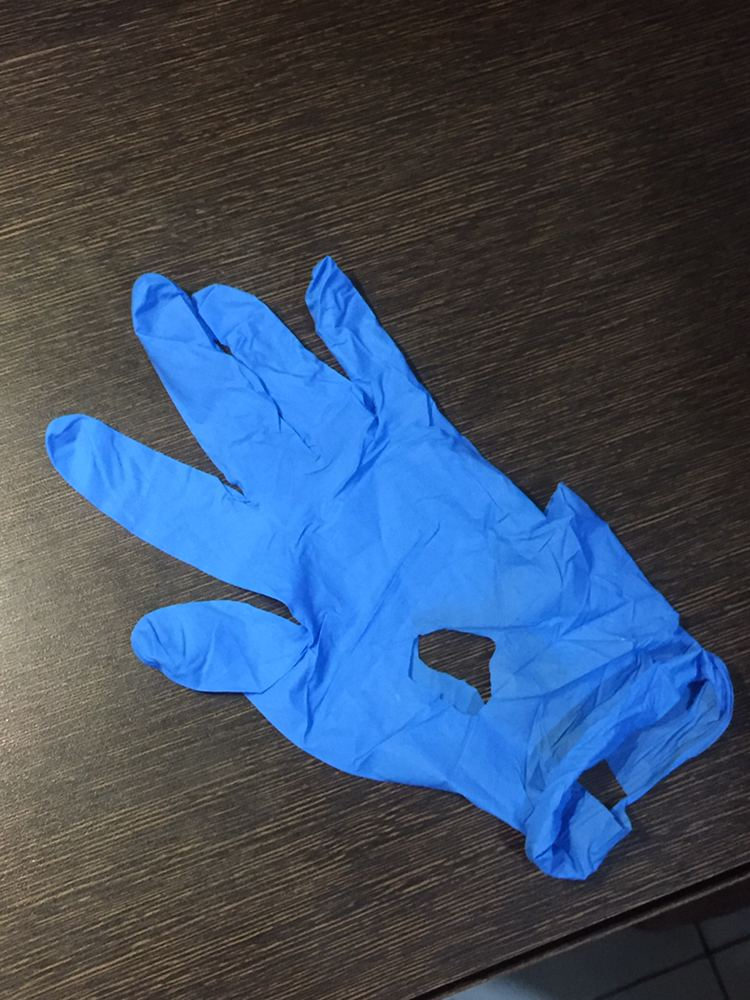defected: (45, 253, 750, 888)
